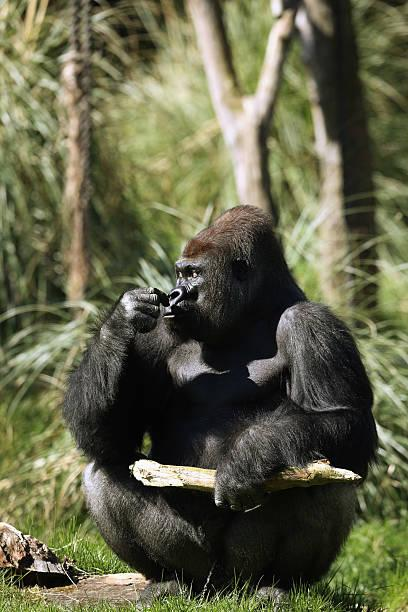gorille_Autres: (42, 202, 408, 606)
